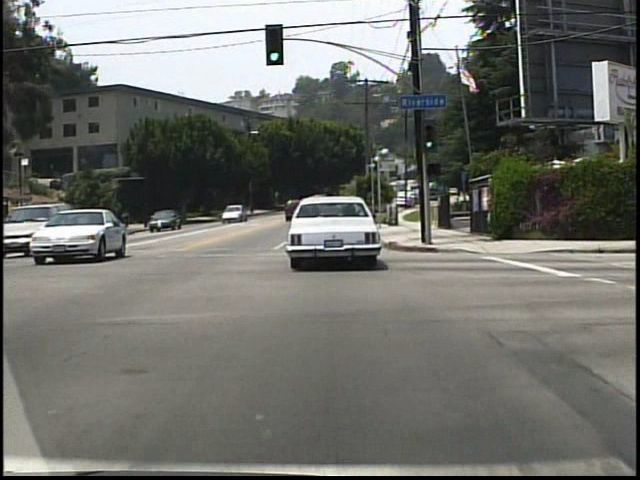person: (123, 208, 134, 231)
